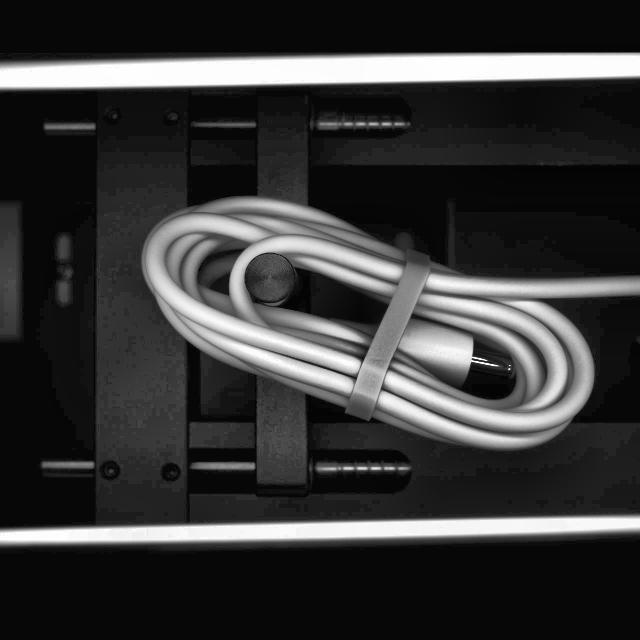Cable: (135, 192, 640, 457)
